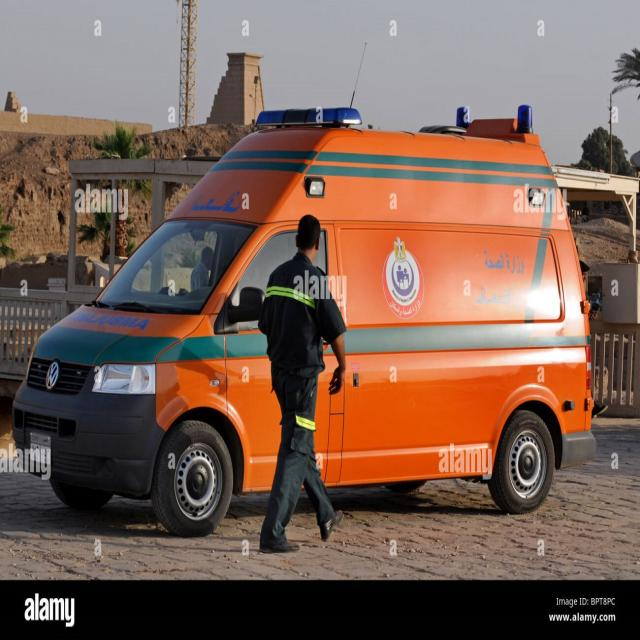Ambulance: (10, 101, 602, 538)
person: (257, 213, 347, 554), (190, 246, 214, 292)
